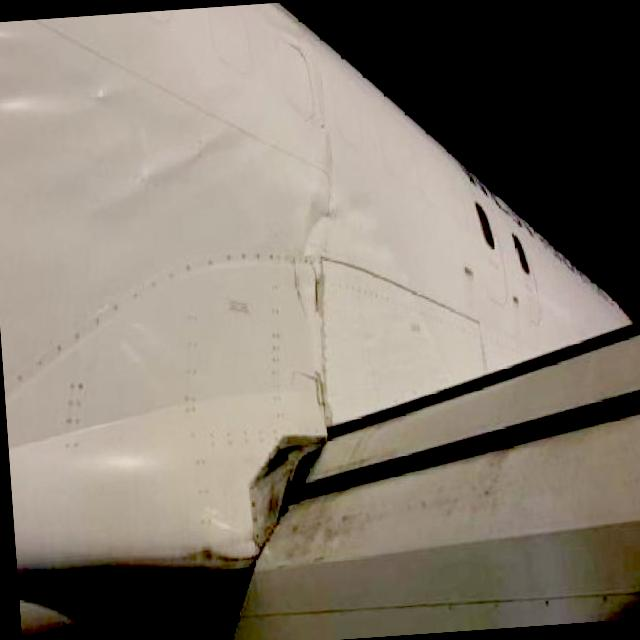dent: (93, 117, 242, 213), (309, 106, 341, 440), (0, 82, 125, 122)
